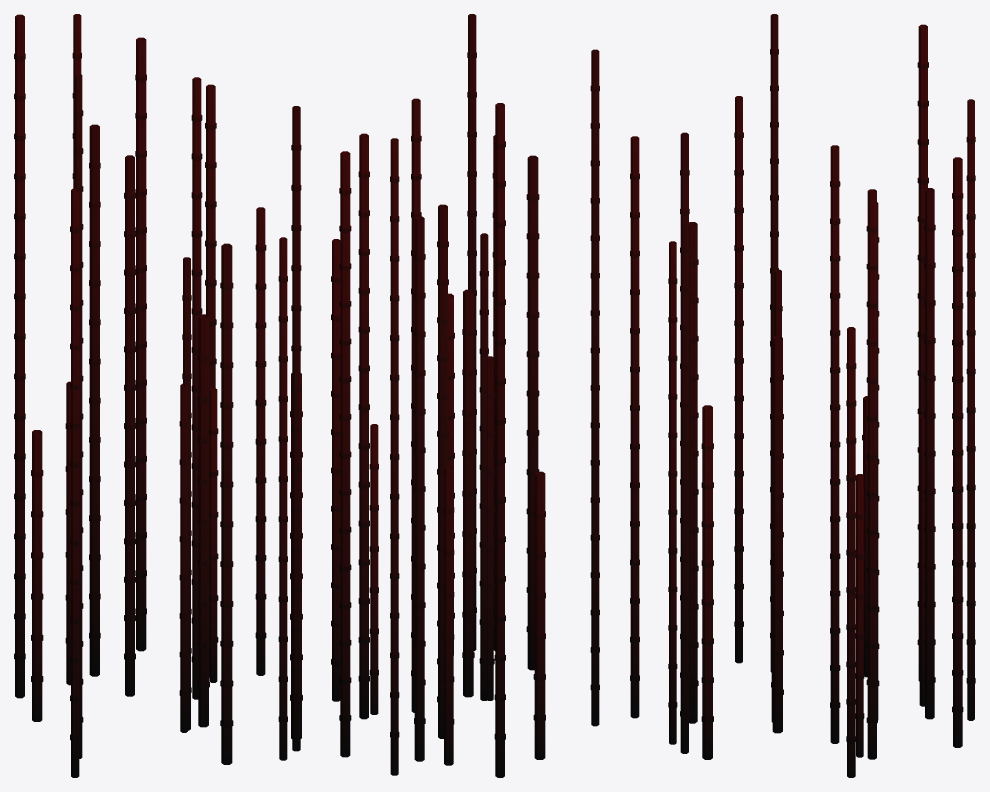
Rendered from horsetail_v2.fbx.
The picture shows the model from 3 angles, left to right: view 1: azimuth 30°, elevation 25°; view 2: azimuth 150°, elevation 25°; view 3: azimuth 270°, elevation 25°; orthographic projection. The views are drawn at different scales.
Parts seen in each view (by area): view 1: horsetail_v2; view 2: horsetail_v2; view 3: horsetail_v2.
Part boxes in pixels (x1,y1,x2,y2): horsetail_v2: [14, 14, 302, 777]; horsetail_v2: [331, 14, 639, 777]; horsetail_v2: [668, 14, 975, 777].
Size of the model in its own units: 41.8 by 108 by 45.88.
